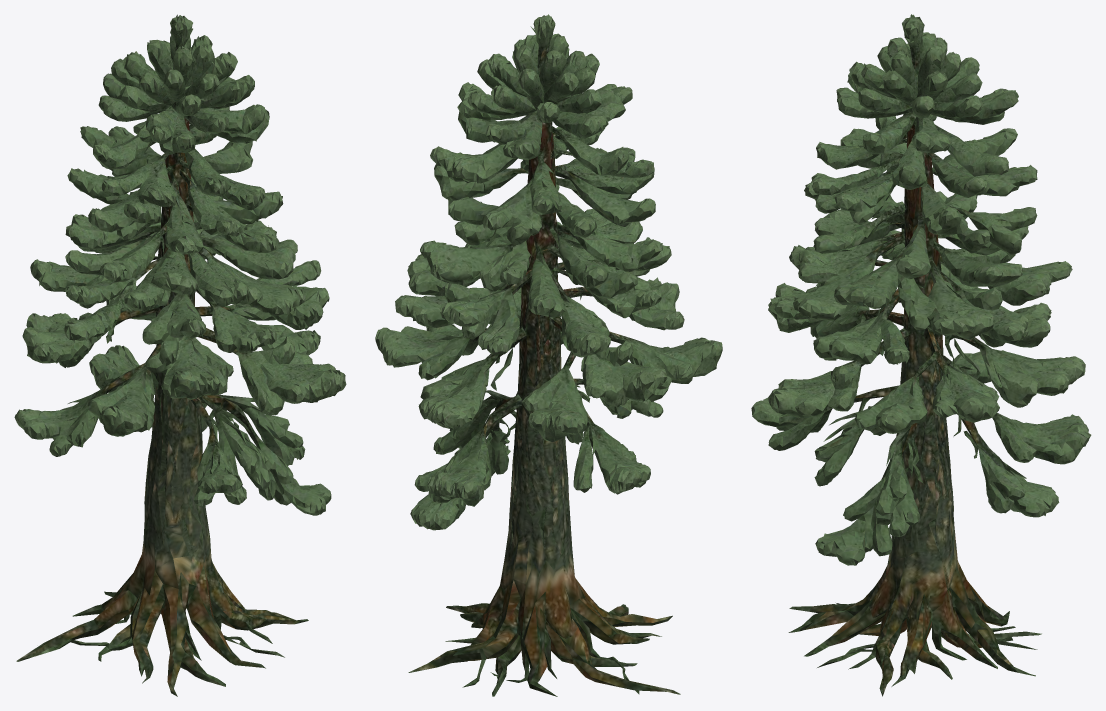
The model's file is tree-pine-a.glb.
The picture shows the model from 3 angles, left to right: view 1: azimuth 30°, elevation 25°; view 2: azimuth 150°, elevation 25°; view 3: azimuth 270°, elevation 25°; orthographic projection.
Visible parts, largest first — view 1: output_unwrapped; view 2: output_unwrapped; view 3: output_unwrapped.
Boxes of the visible parts, box(x1,y1,x2,y2) form: output_unwrapped: box(14, 14, 346, 696); output_unwrapped: box(375, 14, 722, 696); output_unwrapped: box(751, 14, 1091, 696).
Size of the model in its own units: 9.5 by 19.87 by 9.77.
1 material, 1 textured.
